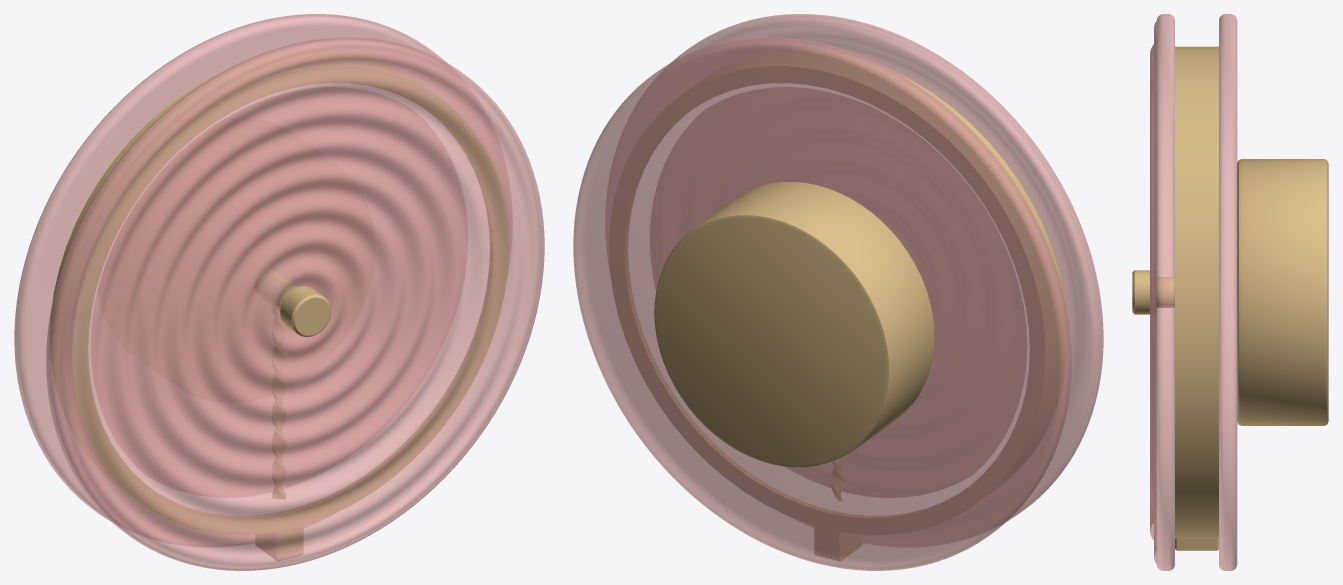
3 views of the same model, side by side, from view 1: azimuth 30°, elevation 25°; view 2: azimuth 150°, elevation 25°; view 3: azimuth 270°, elevation 25° (orthographic). The views are drawn at different scales.
Parts seen in each view (by area): view 1: glass, brass, led_strip; view 2: glass, brass, led_strip; view 3: brass, glass.
Part boxes in pixels (x1,y1,x2,y2): glass: (14,14,544,570); brass: (50,50,508,560); led_strip: (88,83,489,515); glass: (573,14,1103,570); brass: (609,50,1067,560); led_strip: (628,83,1029,515); brass: (1132,46,1328,550); glass: (1150,14,1237,570).
Bounding box in the file's own units: 0.25 × 0.25 × 0.088.
